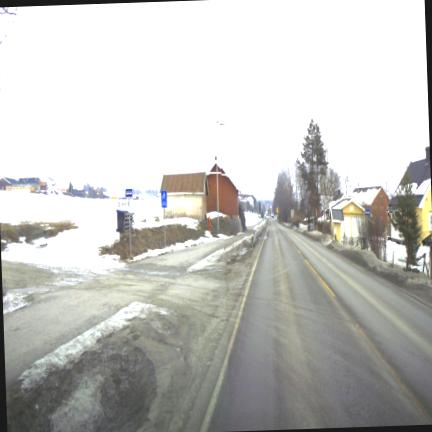Road: (208, 222, 431, 430)
